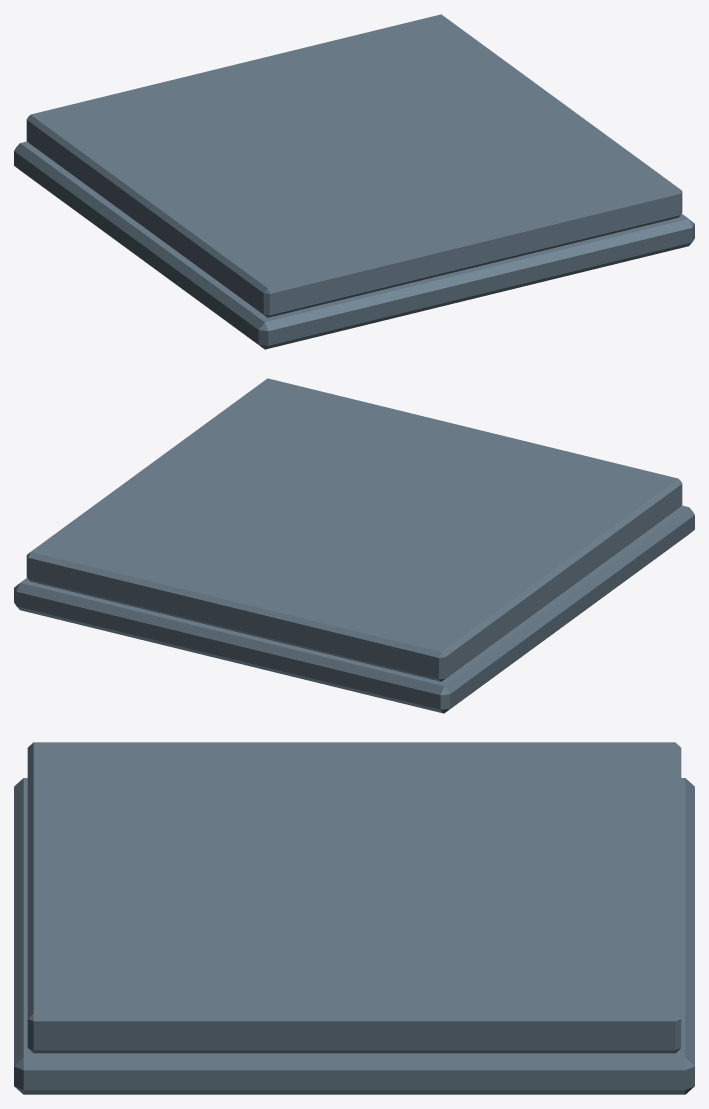
Rendered from A07_Foundation_2m.fbx.
3 views of the same model, one above another, from view 1: azimuth 30°, elevation 25°; view 2: azimuth 150°, elevation 25°; view 3: azimuth 270°, elevation 25° (orthographic). The views are drawn at different scales.
Visible parts, largest first — view 1: A07_Foundation_2m; view 2: A07_Foundation_2m; view 3: A07_Foundation_2m.
Part boxes in pixels (box(x1,y1,x2,y2)): A07_Foundation_2m: box(14, 14, 694, 349); A07_Foundation_2m: box(14, 378, 694, 713); A07_Foundation_2m: box(14, 742, 694, 1094).
Size of the model in its own units: 2 by 0.25 by 2.
Materials: 1 (1 with a texture image).
